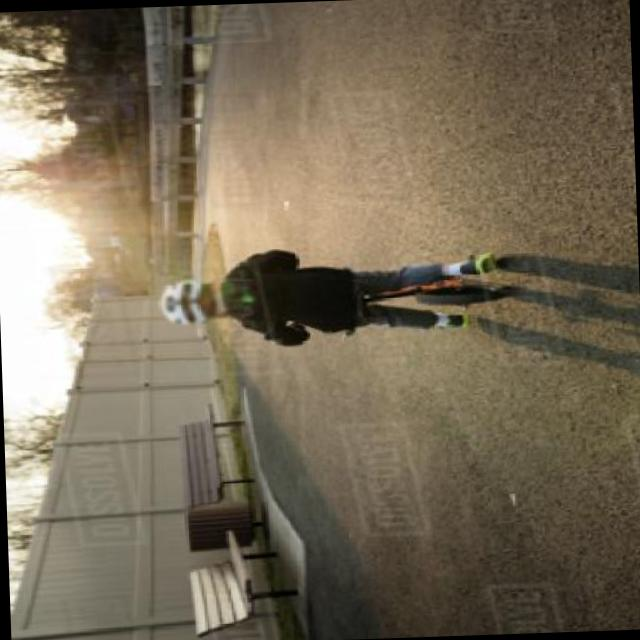With Helmet: (157, 274, 233, 328)
